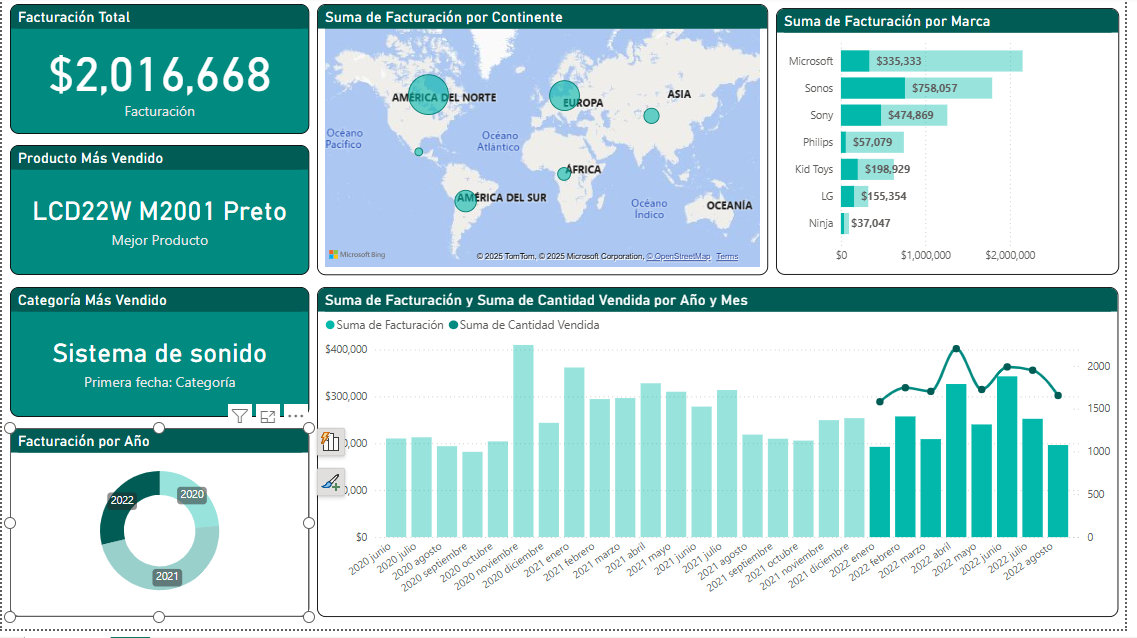

Layout of this report page (visuals, bound fields, positions):
{"tool":"powerbi","page":{"name":"Página 1","canvas":[1280,720],"ordinal":0},"visuals":[{"type":"card","title":"Facturación Total","fields":{"Values":["Sum(Ventas Tech.Facturación)"]},"box":[8.8,7.5,341.2,147.5],"z":0},{"type":"card","title":"Categoría Más Vendido","fields":{"Values":["Min(Ventas Tech.Categoría)"]},"box":[8.8,330,341.2,147.5],"z":1000},{"type":"map","fields":{"Category":["Ventas Tech.Continente"],"Size":["Sum(Ventas Tech.Facturación)"]},"box":[358.8,7.5,513.8,308.8],"z":2000},{"type":"lineStackedColumnComboChart","fields":{"Category":["Ventas Tech.Fecha De Venta.Variación.Jerarquía de fechas.Año","Ventas Tech.Fecha De Venta.Variación.Jerarquía de fechas.Mes"],"Y":["Sum(Ventas Tech.Facturación)"],"Y2":["Sum(Ventas Tech.Cantidad Vendida)"]},"box":[358.8,330,912.5,376.2],"z":3000},{"type":"clusteredBarChart","fields":{"Category":["Ventas Tech.Marca"],"Y":["Sum(Ventas Tech.Facturación)"]},"box":[881.2,12.5,391.2,303.8],"z":4000},{"type":"card","title":"Producto Más Vendido","fields":{"Values":["Min(Ventas Tech.Producto)"]},"box":[8.8,168.8,341.2,147.5],"z":5000},{"type":"donutChart","title":"Facturación por Año","fields":{"Y":["Sum(Ventas Tech.Facturación)"],"Category":["Ventas Tech.Fecha De Venta.Variación.Jerarquía de fechas.Año"]},"box":[8.8,491.2,341.2,215],"z":6000}]}

Visuals, with their boxes in screenshot pixels (x1, y1, x2, y2), scaled from the page's 1280x720 canvas onto the 1137x638 screenshot:
"Facturación Total" card: bbox=[8, 7, 311, 137]
"Categoría Más Vendido" card: bbox=[8, 292, 311, 423]
map - Ventas Tech.Continente x Sum(Ventas Tech.Facturación): bbox=[319, 7, 775, 280]
lineStackedColumnComboChart - Ventas Tech.Fecha De Venta.Variación.Jerarquía de fechas.Año x Ventas Tech.Fecha De Venta.Variación.Jerarquía de fechas.Mes: bbox=[319, 292, 1129, 626]
clusteredBarChart - Ventas Tech.Marca x Sum(Ventas Tech.Facturación): bbox=[783, 11, 1130, 280]
"Producto Más Vendido" card: bbox=[8, 150, 311, 280]
"Facturación por Año" donutChart: bbox=[8, 435, 311, 626]
